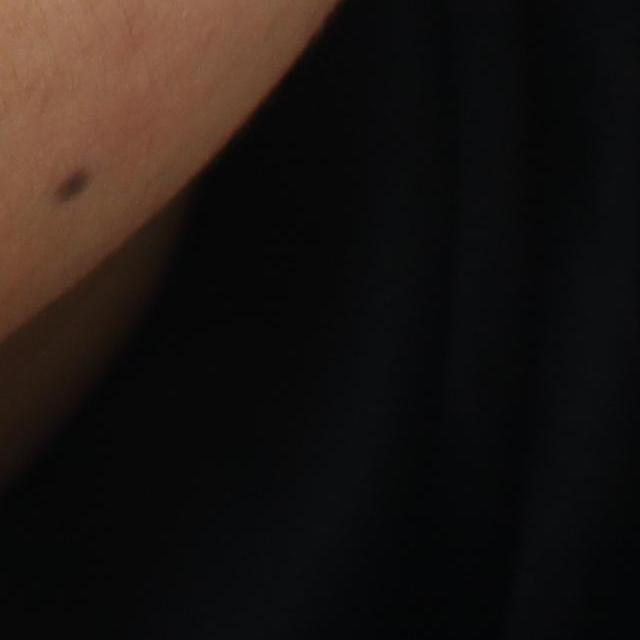nevus: (51, 166, 93, 203)
